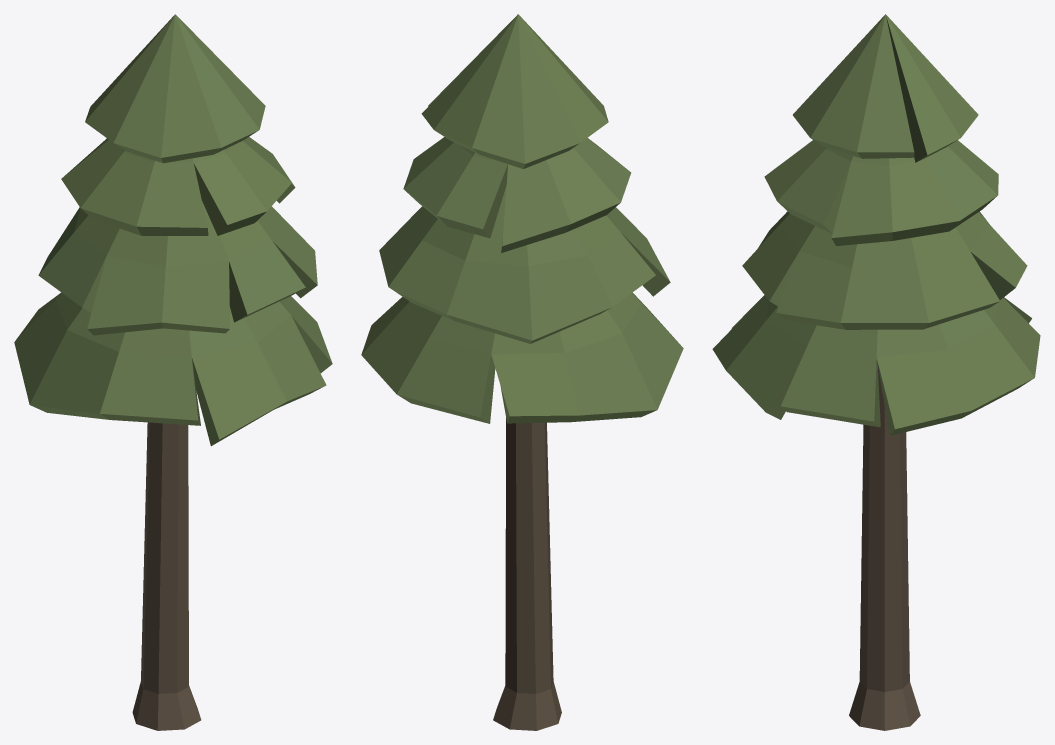
Rendered from SM_Envr_Nature_Tree_Pine_03.fbx.
3 renders of one model, left to right at view 1: azimuth 30°, elevation 25°; view 2: azimuth 150°, elevation 25°; view 3: azimuth 270°, elevation 25°, orthographic.
Visible parts, largest first — view 1: SM_Envr_Nature_Tree_Pine_03; view 2: SM_Envr_Nature_Tree_Pine_03; view 3: SM_Envr_Nature_Tree_Pine_03.
Part boxes in pixels (x1,y1,x2,y2): SM_Envr_Nature_Tree_Pine_03: [14, 14, 332, 730]; SM_Envr_Nature_Tree_Pine_03: [361, 14, 683, 730]; SM_Envr_Nature_Tree_Pine_03: [712, 14, 1040, 730].
Size of the model in its own units: 328 by 770 by 324.
